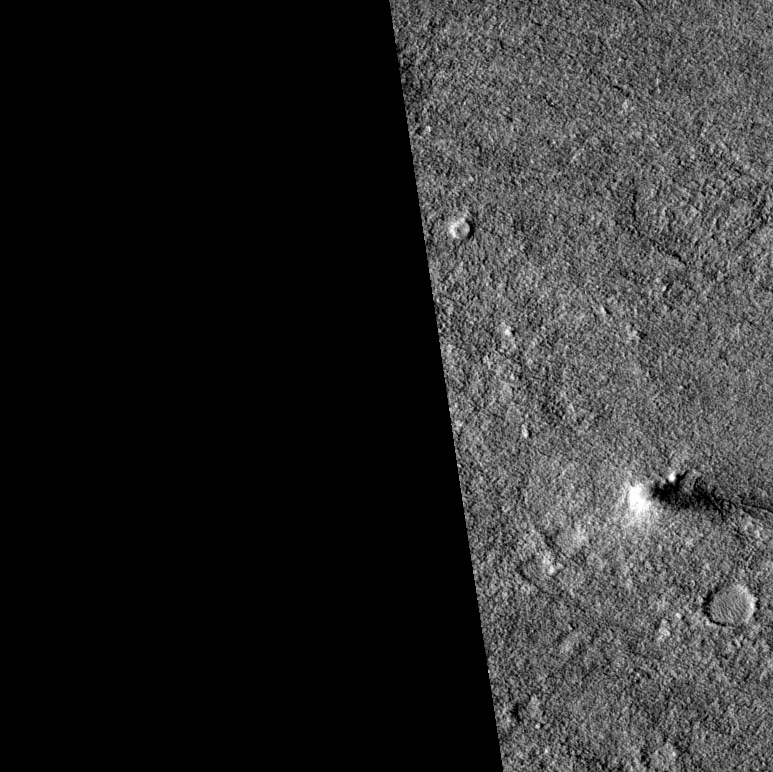dust_devil: (625, 470, 737, 520)
